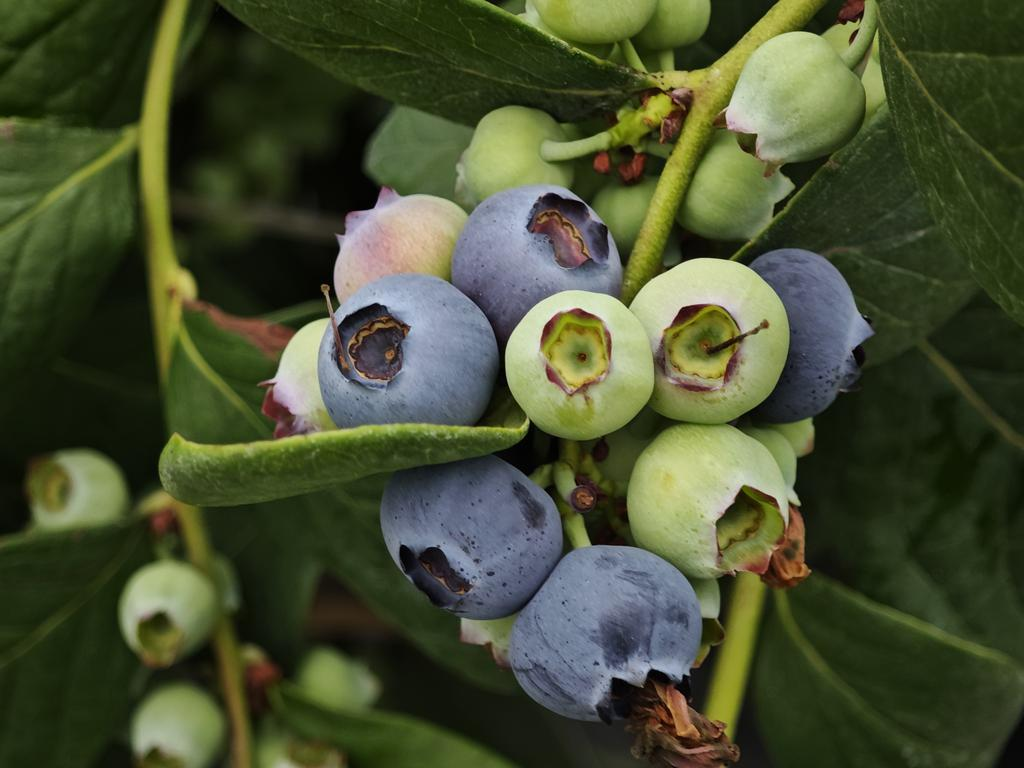RipeBlueBerry: (508, 554, 707, 724), (316, 279, 500, 433), (379, 462, 558, 618)
UnripeBlueBerry: (626, 417, 812, 583), (504, 291, 664, 441), (727, 22, 868, 160)
